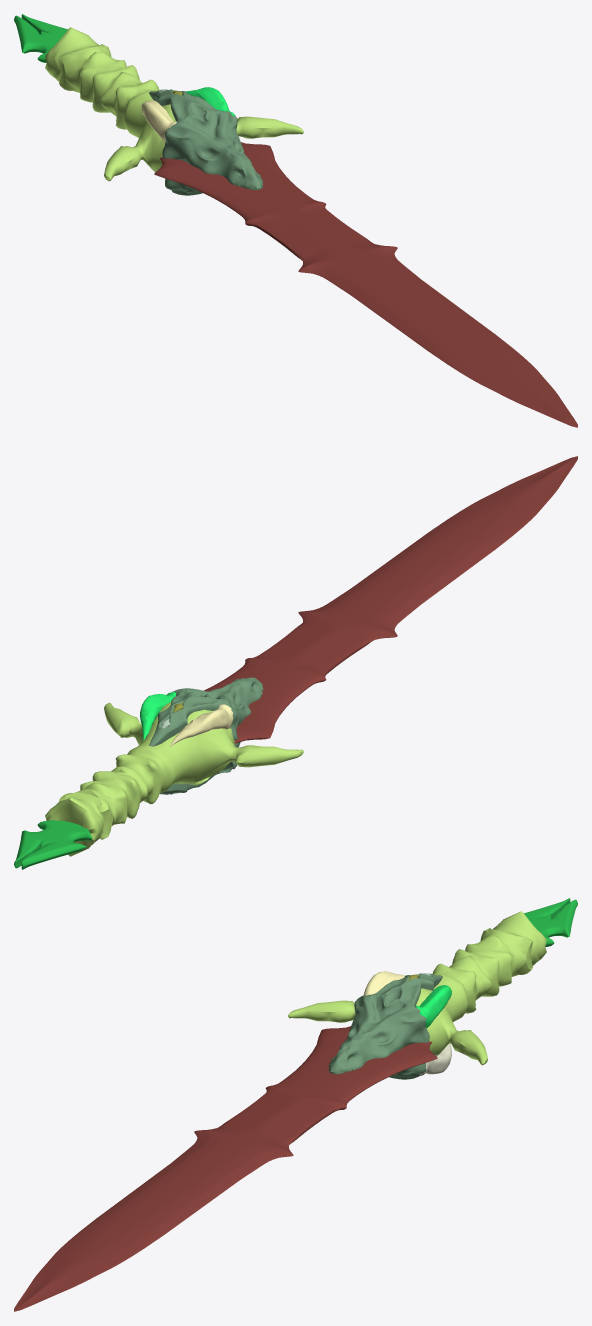
3 renders of one model, top to bottom at view 1: azimuth 30°, elevation 25°; view 2: azimuth 150°, elevation 25°; view 3: azimuth 330°, elevation 25°, orthographic.
Parts seen in each view (by area): view 1: SwordBlade_low_Sword Blade_0, split_parent_2, split_parent_3, SwordPummel_low_Dragon_Head_0, split_parent_8, split_parent_7; view 2: SwordBlade_low_Sword Blade_0, split_parent_2, split_parent_3, SwordPummel_low_Dragon_Head_0, split_parent_8, split_parent_7; view 3: SwordBlade_low_Sword Blade_0, split_parent_2, split_parent_3, SwordPummel_low_Dragon_Head_0, split_parent_7.
Boxes of the visible parts, x1=… form: SwordBlade_low_Sword Blade_0: x1=154, y1=142, x2=577, y2=427; split_parent_2: x1=45, y1=27, x2=303, y2=181; split_parent_3: x1=149, y1=89, x2=263, y2=195; SwordPummel_low_Dragon_Head_0: x1=14, y1=14, x2=67, y2=62; split_parent_8: x1=141, y1=100, x2=176, y2=142; split_parent_7: x1=186, y1=87, x2=235, y2=115; SwordBlade_low_Sword Blade_0: x1=204, y1=456, x2=577, y2=743; split_parent_2: x1=45, y1=702, x2=303, y2=856; split_parent_3: x1=149, y1=677, x2=263, y2=794; SwordPummel_low_Dragon_Head_0: x1=14, y1=820, x2=92, y2=869; split_parent_8: x1=169, y1=704, x2=233, y2=746; split_parent_7: x1=140, y1=691, x2=176, y2=741; SwordBlade_low_Sword Blade_0: x1=14, y1=1026, x2=437, y2=1311; split_parent_2: x1=288, y1=911, x2=546, y2=1065; split_parent_3: x1=328, y1=973, x2=442, y2=1079; SwordPummel_low_Dragon_Head_0: x1=524, y1=898, x2=577, y2=946; split_parent_7: x1=415, y1=985, x2=451, y2=1027.
Bounding box in the file's own units: 0.2028 × 0.0863 × 1.
